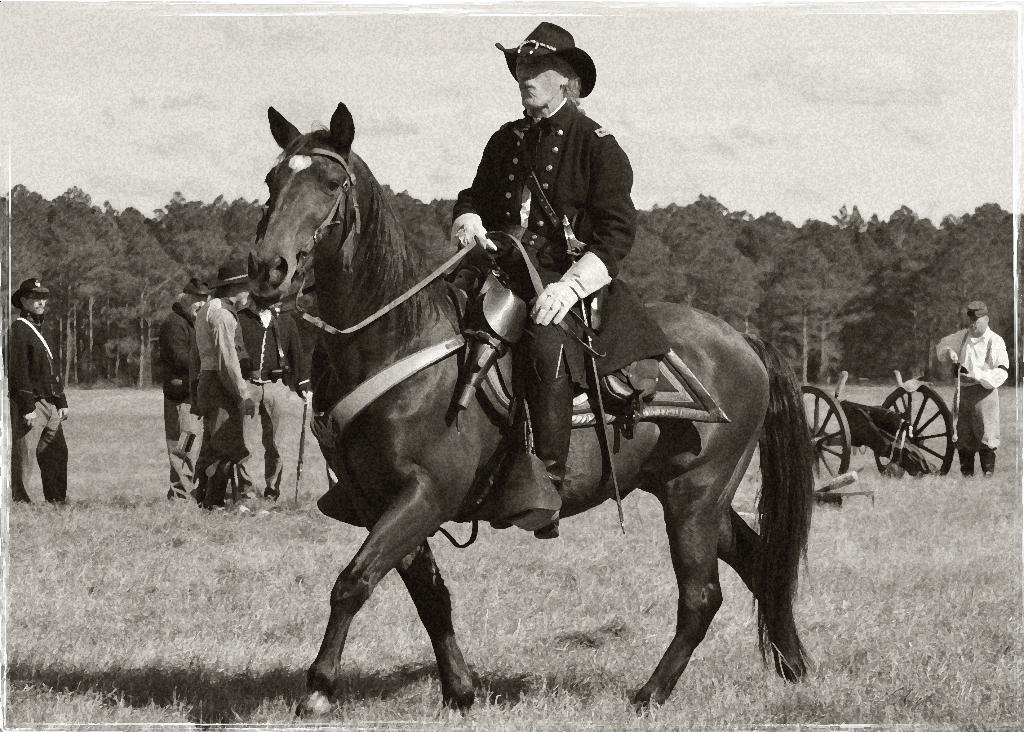horse: (243, 101, 814, 719)
